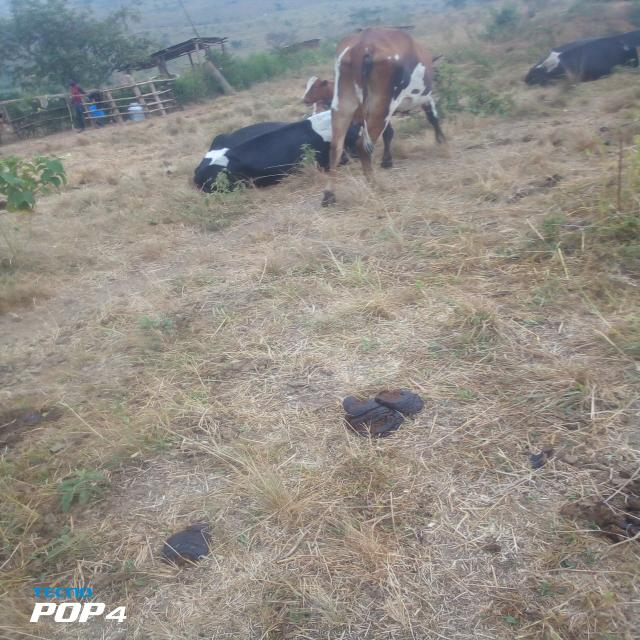cow: (285, 11, 487, 221)
